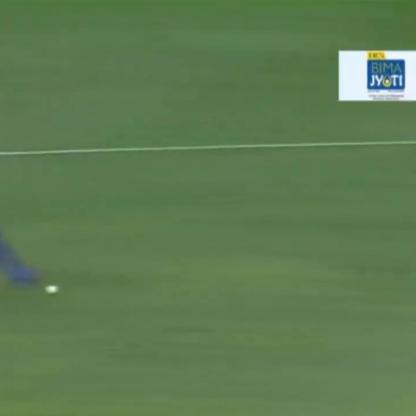ball: (44, 282, 62, 294)
